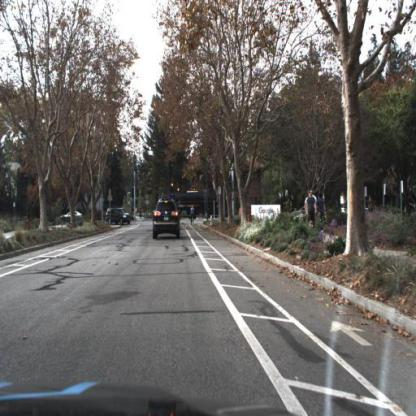biker: (189, 205, 196, 226)
car: (153, 197, 182, 241), (105, 205, 134, 226), (60, 209, 84, 221)
pedestrian: (316, 191, 328, 228), (305, 190, 315, 229)
truck: (162, 187, 223, 218), (162, 191, 219, 216)
